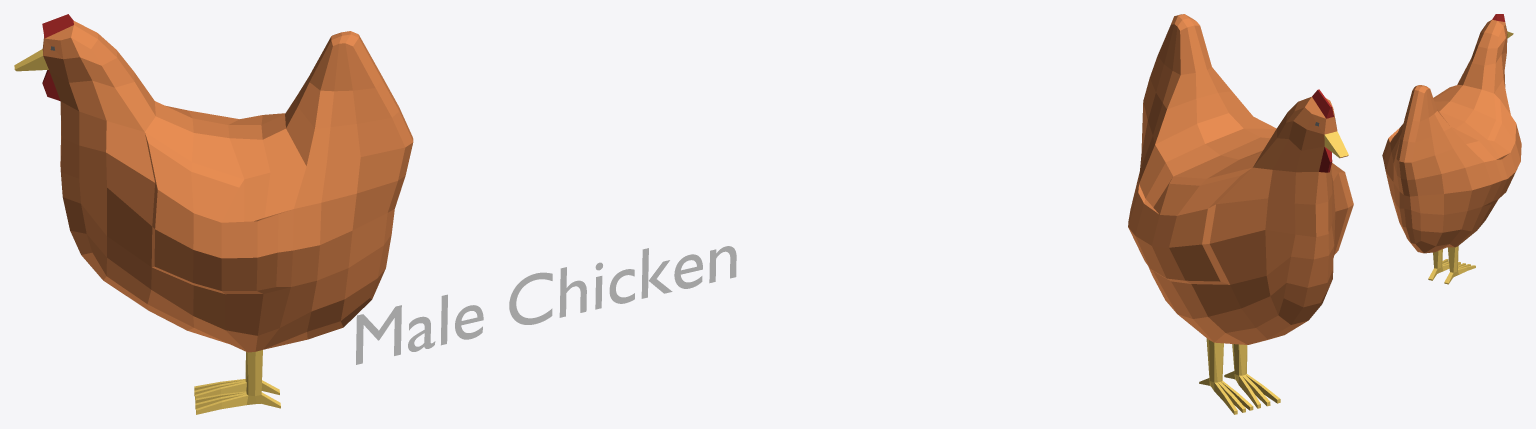
Rendered from brown.gltf.
The picture shows the model from 3 angles, left to right: view 1: azimuth 30°, elevation 25°; view 2: azimuth 150°, elevation 25°; view 3: azimuth 270°, elevation 25°; orthographic projection. The views are drawn at different scales.
Parts seen in each view (by area): view 1: Chicken, Text; view 2: Chicken; view 3: Chicken.
Boxes of the visible parts, x1,y1,x2,y2 form: Chicken: (14, 14, 413, 414); Text: (356, 246, 736, 364); Chicken: (1128, 14, 1353, 414); Chicken: (1382, 14, 1521, 284).
Size of the model in its own units: 0.7263 by 0.4019 by 0.2264.
